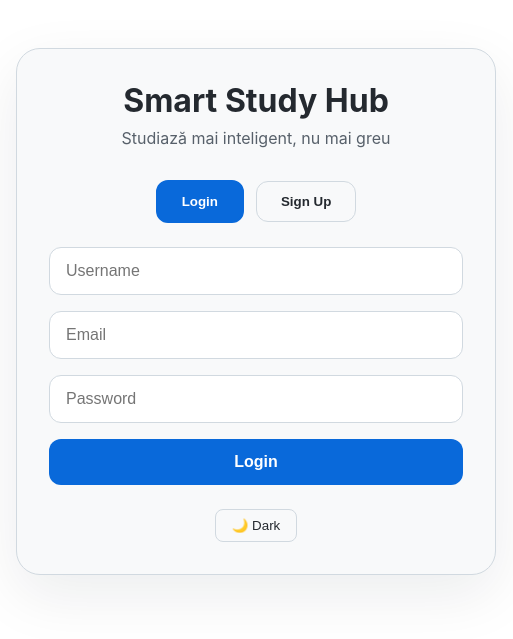
App › shows developer code field on signup
Expected: the heading "Smart Study Hub" is shown, [123,80,389,120]
Click the button "Sign Up" at (306, 201), box [256,180,356,222]
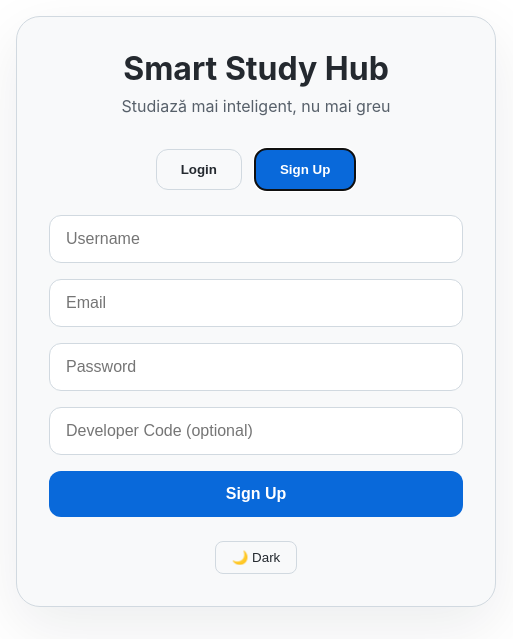
Expected: the password field with placeholder "Developer Code (optional)" is shown, [49,406,463,454]
